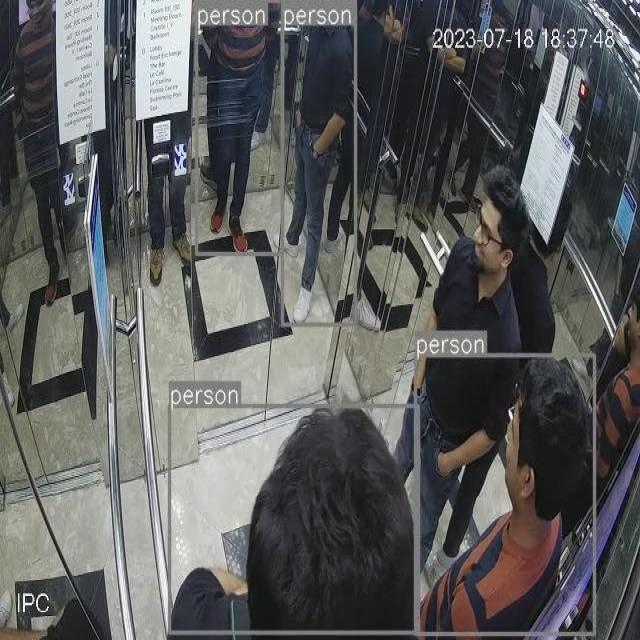person: (169, 316, 401, 636), (401, 325, 583, 640), (417, 175, 561, 514), (281, 0, 347, 271), (197, 5, 271, 242)
